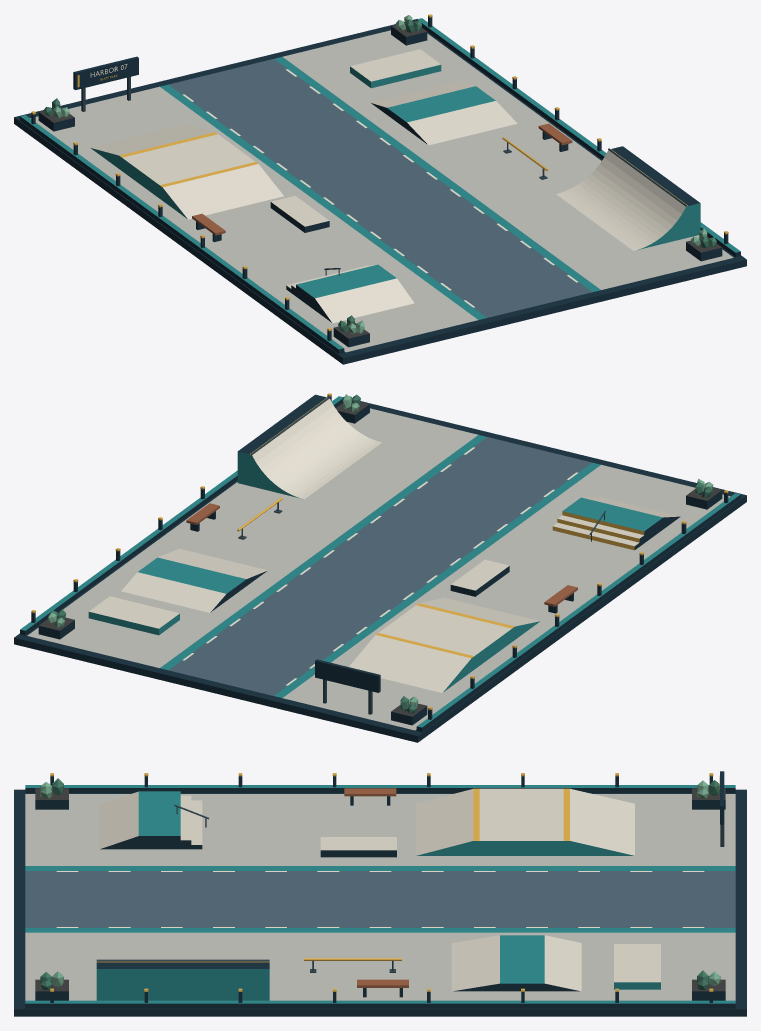
File: Harbor07_Skatepark.fbx
The picture shows the model from 3 angles, top to bottom: view 1: azimuth 30°, elevation 25°; view 2: azimuth 150°, elevation 25°; view 3: azimuth 270°, elevation 25°; orthographic projection. The views are drawn at different scales.
Visible parts, largest first — view 1: Park_Base_and_Painted_Lane, West_Funbox_Two_Banks, East_Quarter_Pipe, Perimeter_Trim, East_Intro_Bank, West_Stair_Set, Corner_Planters, Manual_Pad, Park_Welcome_Sign, Low_Ledge, Park_Benches; view 2: Park_Base_and_Painted_Lane, West_Funbox_Two_Banks, East_Quarter_Pipe, Perimeter_Trim, East_Intro_Bank, West_Stair_Set, Corner_Planters, Manual_Pad, Park_Welcome_Sign, Low_Ledge, Park_Benches; view 3: Park_Base_and_Painted_Lane, West_Funbox_Two_Banks, Perimeter_Trim, East_Intro_Bank, East_Quarter_Pipe, West_Stair_Set, Corner_Planters, Manual_Pad, Low_Ledge, Park_Benches, Quarter_Pipe_Coping.
Part boxes in pixels (bbox=[...]): Park_Base_and_Painted_Lane: bbox=[14, 18, 746, 364]; West_Funbox_Two_Banks: bbox=[90, 124, 283, 219]; East_Quarter_Pipe: bbox=[556, 146, 700, 250]; Perimeter_Trim: bbox=[20, 14, 740, 353]; East_Intro_Bank: bbox=[370, 81, 517, 145]; West_Stair_Set: bbox=[286, 264, 414, 323]; Corner_Planters: bbox=[38, 15, 722, 347]; Manual_Pad: bbox=[350, 49, 441, 88]; Park_Welcome_Sign: bbox=[73, 56, 138, 111]; Low_Ledge: bbox=[270, 195, 329, 232]; Park_Benches: bbox=[192, 123, 572, 242]; Park_Base_and_Painted_Lane: bbox=[14, 397, 746, 742]; West_Funbox_Two_Banks: bbox=[349, 597, 540, 692]; East_Quarter_Pipe: bbox=[237, 394, 381, 499]; Perimeter_Trim: bbox=[20, 393, 740, 731]; East_Intro_Bank: bbox=[121, 548, 267, 612]; West_Stair_Set: bbox=[552, 496, 680, 550]; Corner_Planters: bbox=[38, 394, 722, 725]; Manual_Pad: bbox=[88, 596, 179, 635]; Park_Welcome_Sign: bbox=[315, 659, 380, 714]; Low_Ledge: bbox=[450, 559, 509, 596]; Park_Benches: bbox=[186, 503, 577, 613]; Park_Base_and_Painted_Lane: bbox=[14, 789, 746, 1016]; West_Funbox_Two_Banks: bbox=[416, 788, 634, 855]; Perimeter_Trim: bbox=[25, 773, 735, 1008]; East_Intro_Bank: bbox=[451, 935, 581, 991]; East_Quarter_Pipe: bbox=[96, 961, 269, 1000]; West_Stair_Set: bbox=[99, 791, 202, 849]; Corner_Planters: bbox=[35, 778, 725, 1000]; Manual_Pad: bbox=[614, 944, 660, 989]; Low_Ledge: bbox=[320, 837, 396, 857]; Park_Benches: bbox=[344, 788, 408, 997]; Quarter_Pipe_Coping: bbox=[96, 959, 269, 961].
Size of the model in its own units: 20.4 by 2.28 by 28.8.
